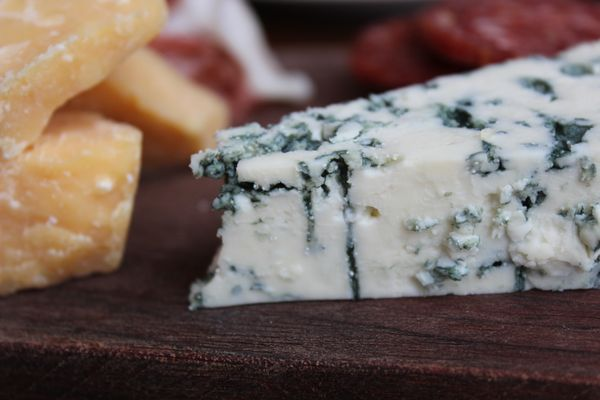sushi: (187, 47, 600, 310)
